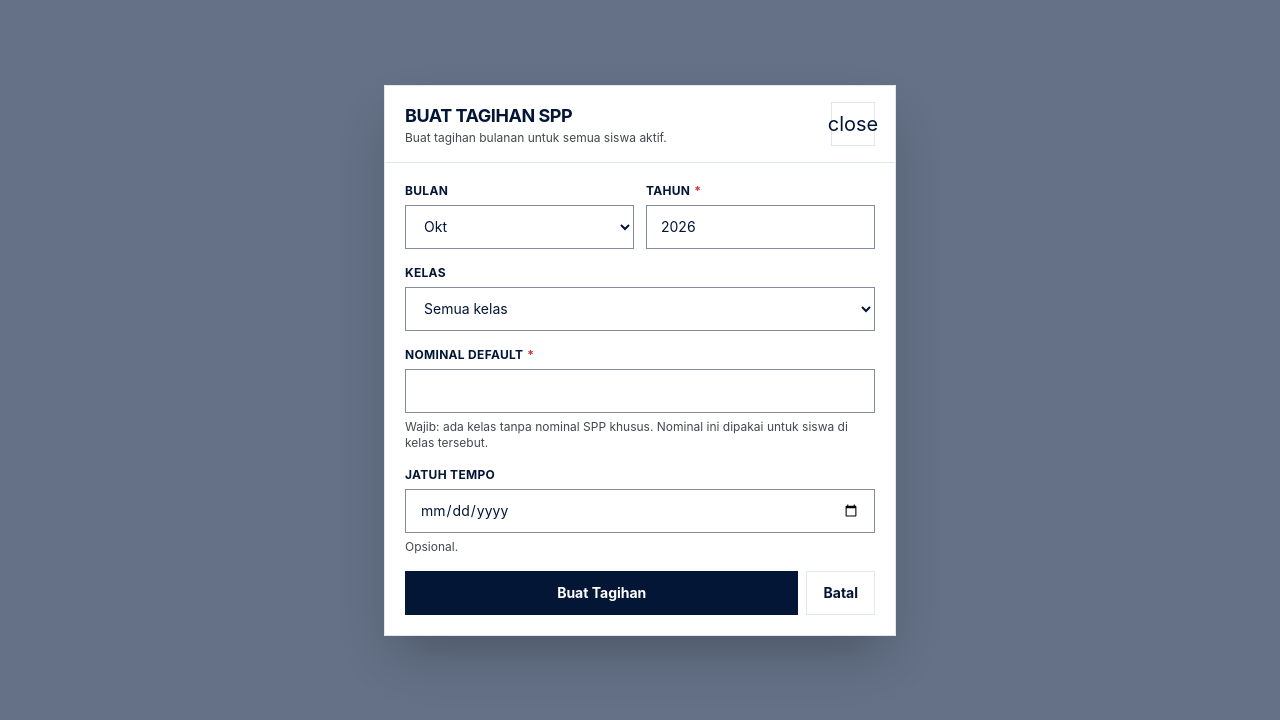
Test: SppGenerateModal › mengirim payload lalu menampilkan ringkasan hasil
Type "125000" into the number field labelled "Nominal default*" at (640, 390), box [405,368,875,412]
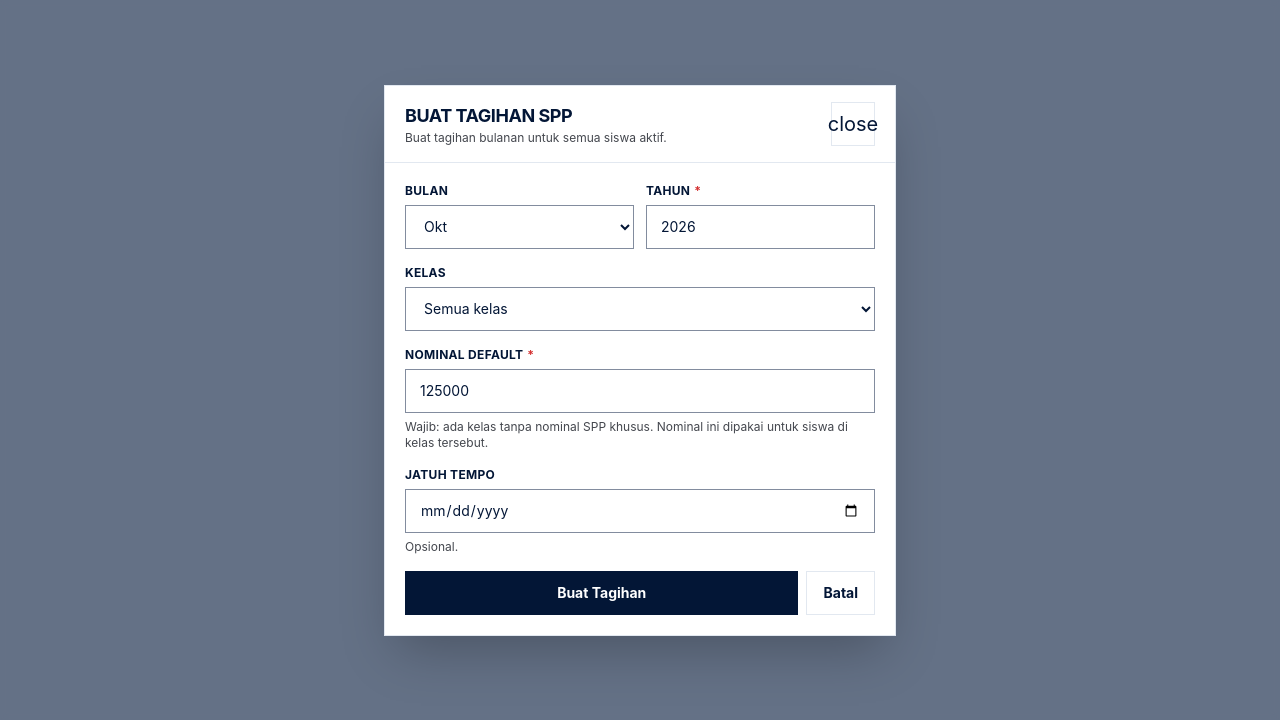
Type "2026-10-10" into the date field labelled "Jatuh tempo" at (640, 510), box [405,488,875,532]
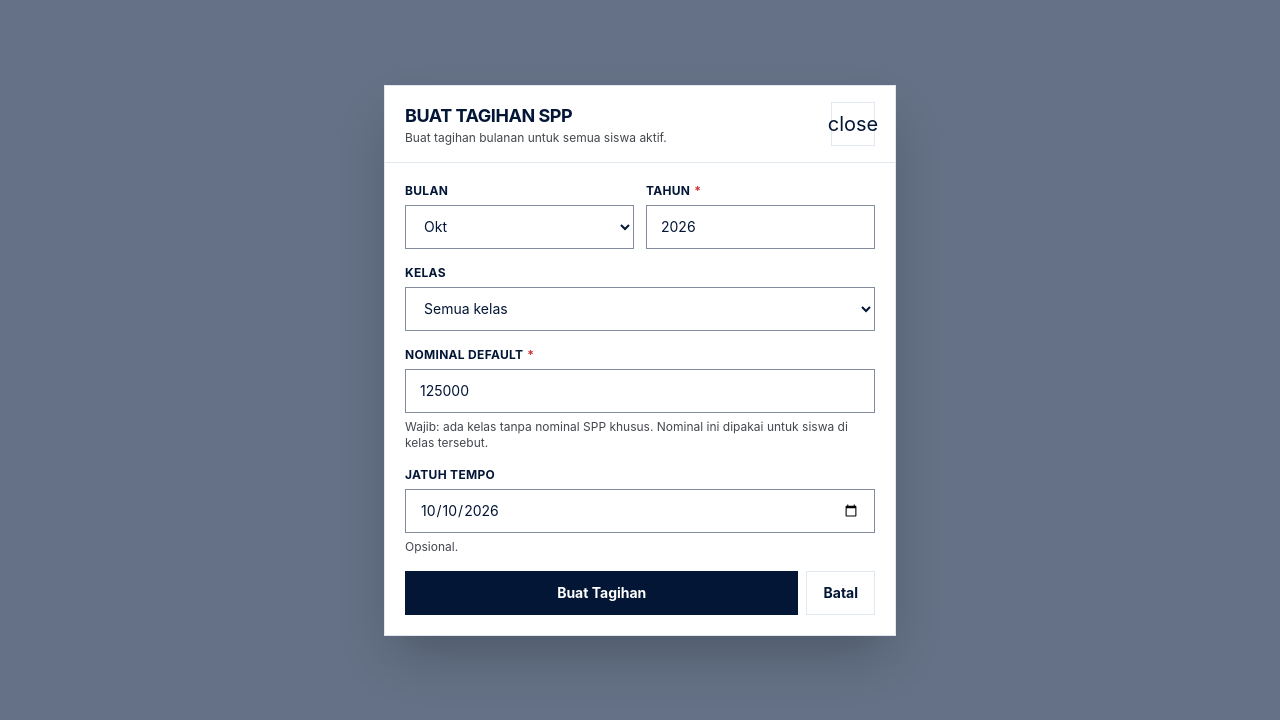
Click the button "Buat Tagihan" at (602, 592), box [405,570,798,614]
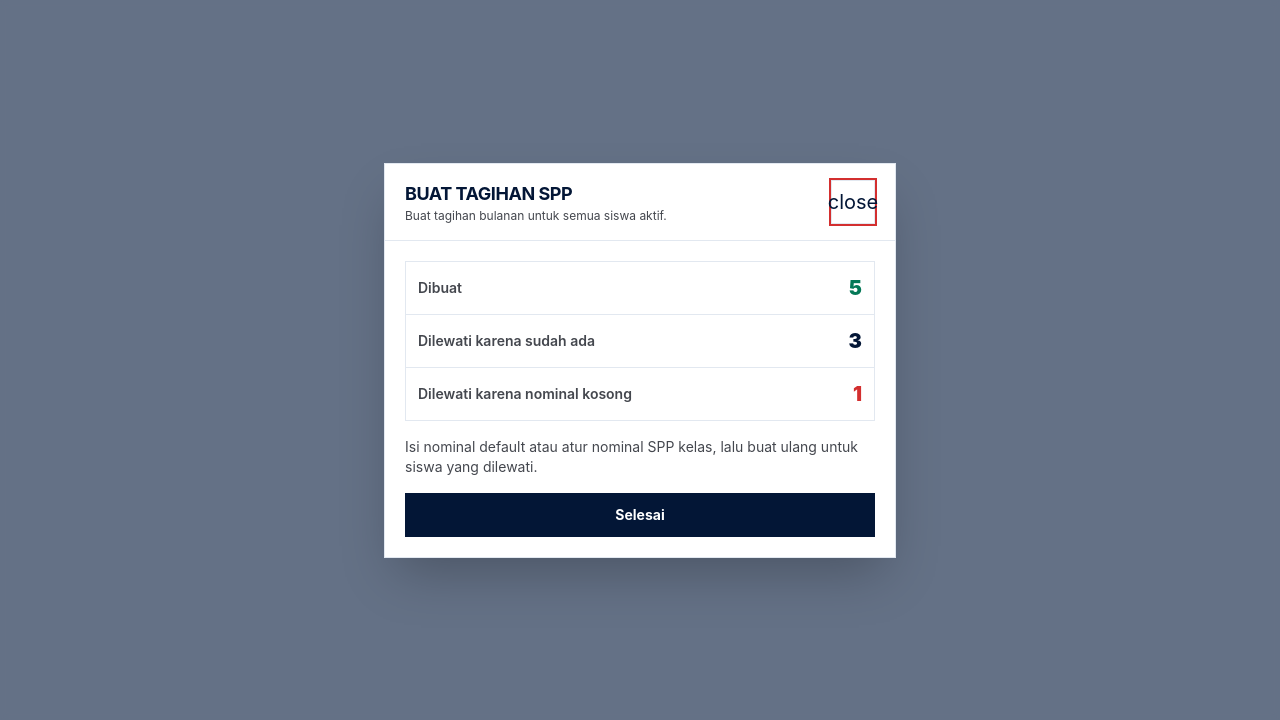
Result: the text "5" is shown at [849,274,862,302]
Result: the text "3" is shown at [849,326,862,354]
Result: the text "1" is shown at [853,380,862,408]
